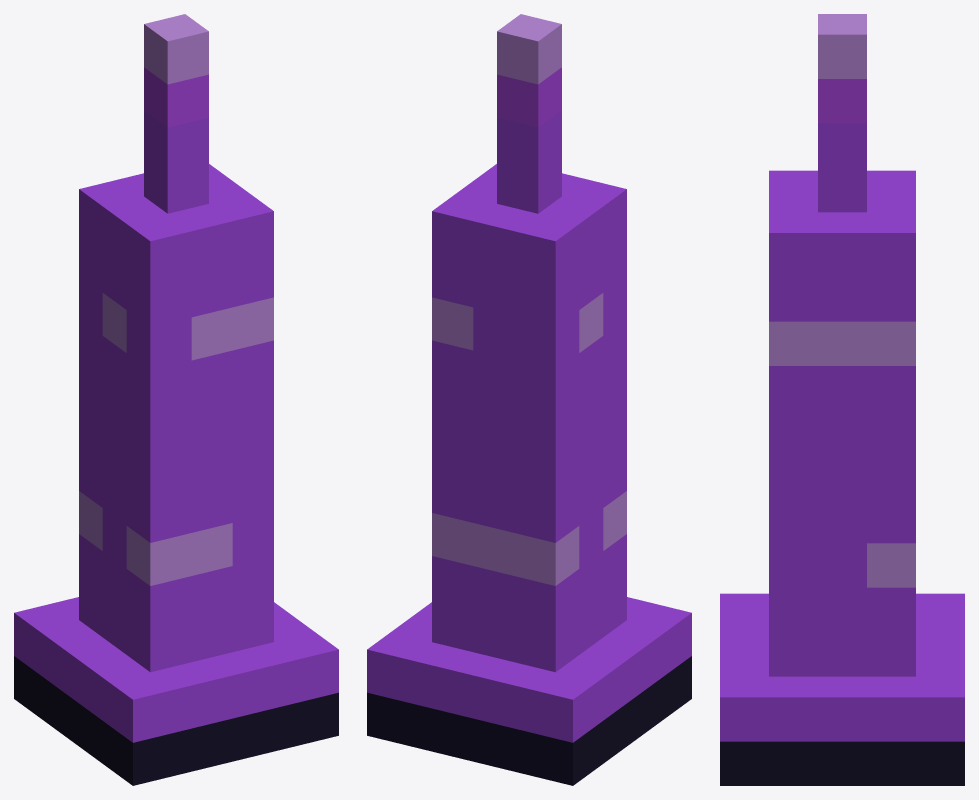
Rendered from void-obelisk.glb.
The picture shows the model from 3 angles, left to right: view 1: azimuth 30°, elevation 25°; view 2: azimuth 150°, elevation 25°; view 3: azimuth 270°, elevation 25°; orthographic projection. The views are drawn at different scales.
Parts seen in each view (by area): view 1: void_obelisk; view 2: void_obelisk; view 3: void_obelisk.
Boxes of the visible parts, x1,y1,x2,y2 form: void_obelisk: (14,14,338,785); void_obelisk: (367,14,691,785); void_obelisk: (720,14,964,785).
Size of the model in its own units: 0.5 by 1.6 by 0.5.
